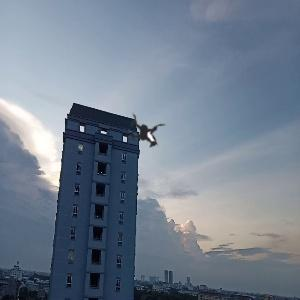drone: (105, 97, 182, 174)
